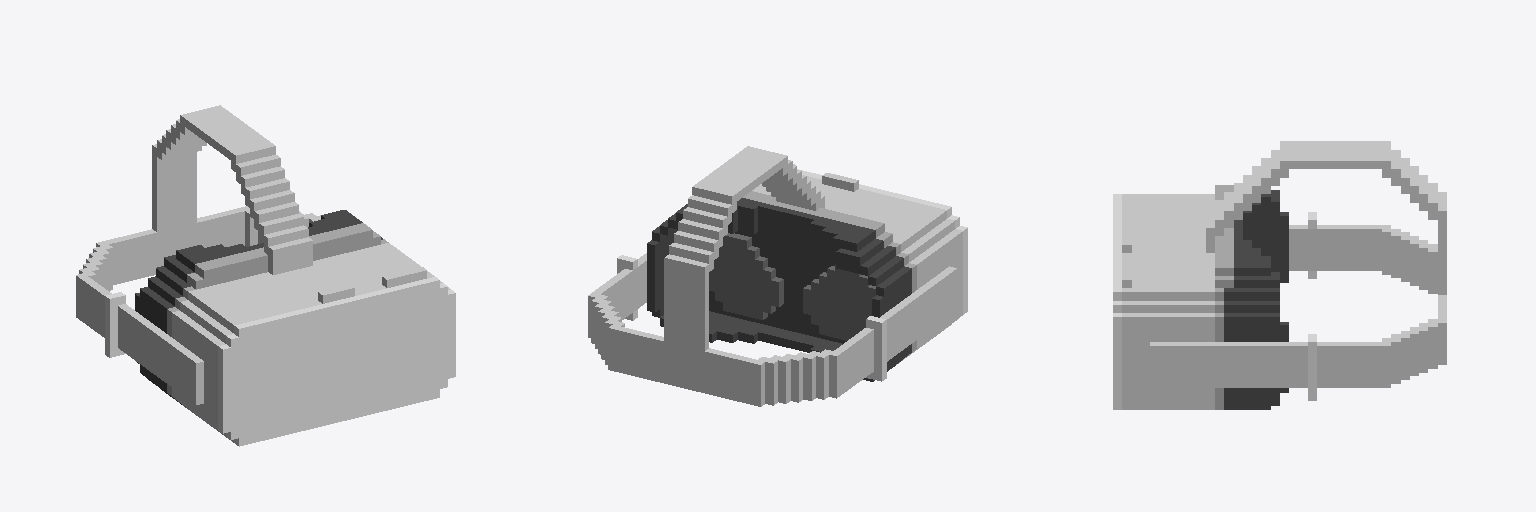
3 renders of one model, left to right at view 1: azimuth 30°, elevation 25°; view 2: azimuth 150°, elevation 25°; view 3: azimuth 270°, elevation 25°, orthographic.
Visible parts, largest first — view 1: oculus_go; view 2: oculus_go; view 3: oculus_go.
Part boxes in pixels (left/top/right/bottom): oculus_go: left=76, top=105, right=455, bottom=446; oculus_go: left=588, top=146, right=967, bottom=406; oculus_go: left=1113, top=141, right=1446, bottom=409.
Size of the model in its own units: 33 by 25 by 36.
Materials: 1 (1 with a texture image).